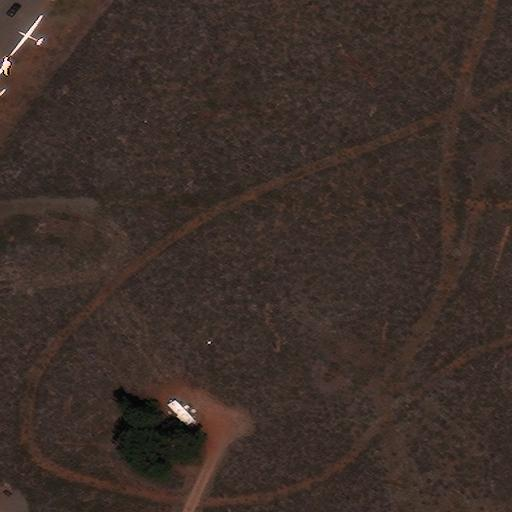Medium Civil Transport: (9, 14, 41, 55)
